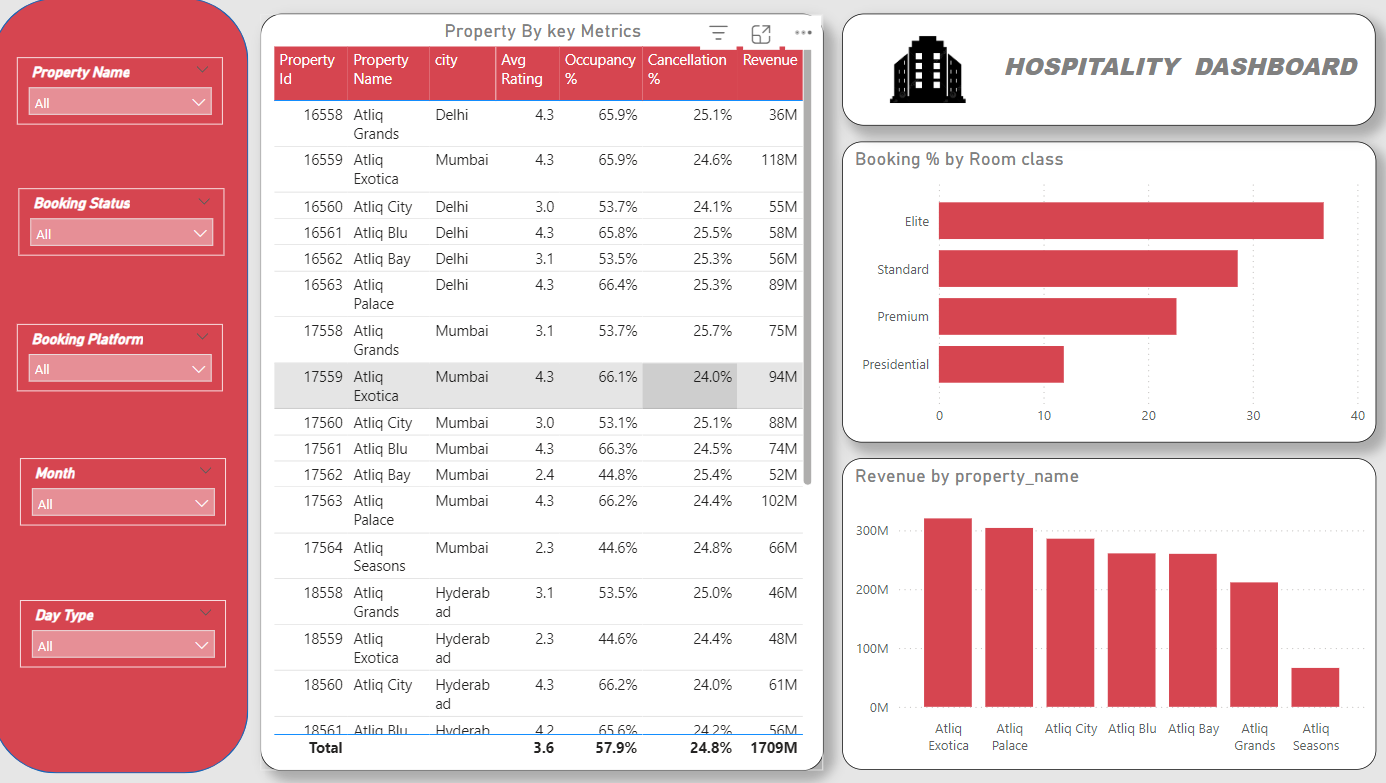

The dashboard page shown, as its layout file describes it:
{"tool":"powerbi","page":{"name":"Page 2","canvas":[1280,720],"ordinal":1},"visuals":[{"type":"shape","box":[0,0,234.8,710],"z":0},{"type":"slicer","fields":{"Values":["dim_hotels.property_name"]},"box":[22.4,54.5,188.7,61.5],"z":1000},{"type":"slicer","fields":{"Values":["fact_bookings.booking_status"]},"box":[23.8,174.7,188.7,61.5],"z":2000},{"type":"slicer","fields":{"Values":["fact_bookings.booking_platform"]},"box":[22.4,299.1,188.7,61.5],"z":3000},{"type":"slicer","fields":{"Values":["dim_date.mmm yy.Variation.Date Hierarchy.Month"]},"box":[25.2,422.1,188.7,61.5],"z":4000},{"type":"slicer","fields":{"Values":["dim_date.day type"]},"box":[25.2,552.1,188.7,61.5],"z":5000},{"type":"tableEx","title":"Property By key Metrics ","fields":{"Values":["dim_hotels.property_id","dim_hotels.property_name","dim_hotels.city","key_measures.Average Rating","key_measures.Occupancy %","key_measures.Cancellation %","key_measures.Revenue"]},"box":[245,13.8,516.2,693.8],"z":6000},{"type":"barChart","title":"Booking % by Room class ","fields":{"Y":["key_measures.Booking % by Room class"],"Category":["dim_rooms.room_class"]},"box":[778.5,131.4,489.2,275.4],"z":7000},{"type":"clusteredColumnChart","fields":{"Category":["dim_hotels.property_name"],"Y":["key_measures.Revenue"]},"box":[778.5,422.1,489.2,285.1],"z":8000},{"type":"textbox","box":[778.8,13.8,488.8,102.5],"z":9000},{"type":"image","box":[761.2,13.8,191.2,102.5],"z":10000}]}

Visuals, with their boxes in screenshot pixels (x1, y1, x2, y2), scaled from the page's 1280x720 canvas onto the 1386x783 screenshot:
shape: (0,0,254,772)
slicer - dim_hotels.property_name: (24,59,229,126)
slicer - fact_bookings.booking_status: (26,190,230,257)
slicer - fact_bookings.booking_platform: (24,325,229,392)
slicer - dim_date.mmm yy.Variation.Date Hierarchy.Month: (27,459,232,526)
slicer - dim_date.day type: (27,600,232,667)
"Property By key Metrics " tableEx: (265,15,824,770)
"Booking % by Room class " barChart: (843,143,1373,442)
clusteredColumnChart - dim_hotels.property_name x key_measures.Revenue: (843,459,1373,769)
textbox: (843,15,1373,126)
image: (824,15,1031,126)
